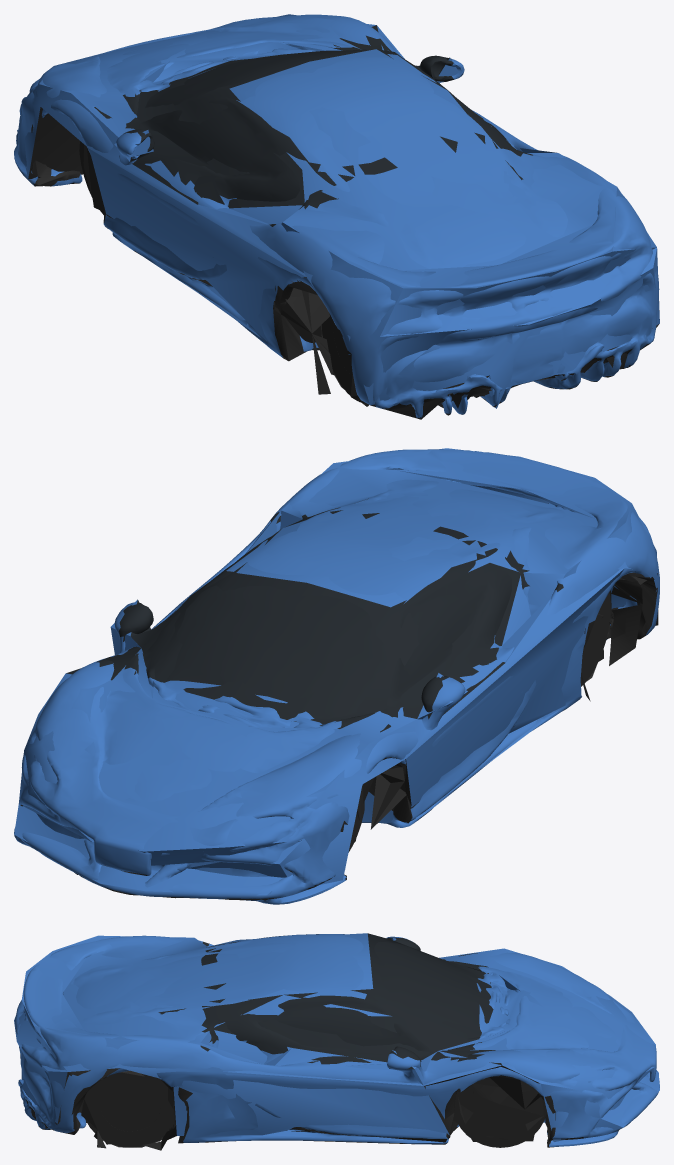
The model's file is ferrari-sf90.glb.
3 renders of one model, top to bottom at view 1: azimuth 30°, elevation 25°; view 2: azimuth 150°, elevation 25°; view 3: azimuth 270°, elevation 25°, orthographic. The views are drawn at different scales.
Visible parts, largest first — view 1: body, far; view 2: body, far; view 3: body, far.
Part boxes in pixels (x1,y1,x2,y2): body: [14, 14, 659, 418]; far: [17, 14, 659, 419]; body: [14, 449, 659, 904]; far: [14, 448, 658, 895]; body: [15, 934, 659, 1150]; far: [14, 933, 659, 1144].
Size of the model in its own units: 2.17 by 1.19 by 4.7.
